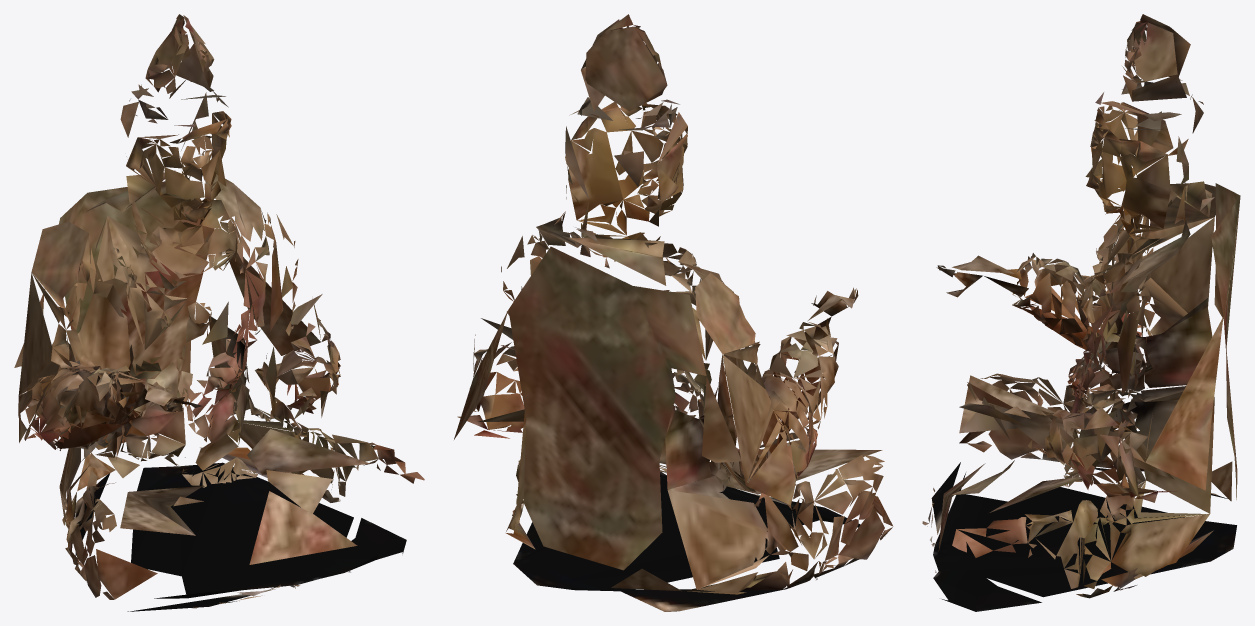
Rendered from figurine.glb.
The picture shows the model from 3 angles, left to right: view 1: azimuth 30°, elevation 25°; view 2: azimuth 150°, elevation 25°; view 3: azimuth 270°, elevation 25°; orthographic projection. The views are drawn at different scales.
Parts seen in each view (by area): view 1: Object_2; view 2: Object_2; view 3: Object_2.
Boxes of the visible parts, x1,y1,x2,y2 form: Object_2: [14, 14, 424, 611]; Object_2: [454, 14, 893, 611]; Object_2: [922, 14, 1240, 611].
Size of the model in its own units: 1.14 by 1.75 by 0.959.
1 material, 1 textured.
